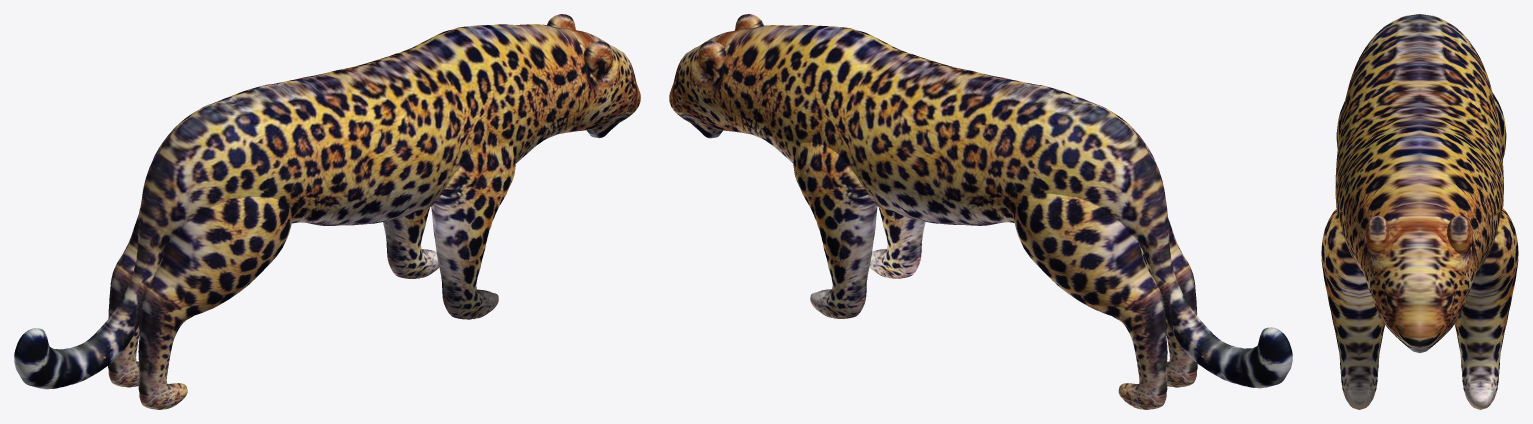
File: amur-leopard.glb
3 renders of one model, left to right at view 1: azimuth 30°, elevation 25°; view 2: azimuth 150°, elevation 25°; view 3: azimuth 270°, elevation 25°, orthographic. The views are drawn at different scales.
Parts seen in each view (by area): view 1: mm_frame (14); view 2: mm_frame (14); view 3: mm_frame (14).
Part boxes in pixels (bbox=[...]): mm_frame (14): bbox=[14, 14, 640, 409]; mm_frame (14): bbox=[669, 14, 1292, 409]; mm_frame (14): bbox=[1321, 14, 1518, 409].
Size of the model in its own units: 9.5 by 4.2 by 2.38.
Materials: 1 (1 with a texture image).
